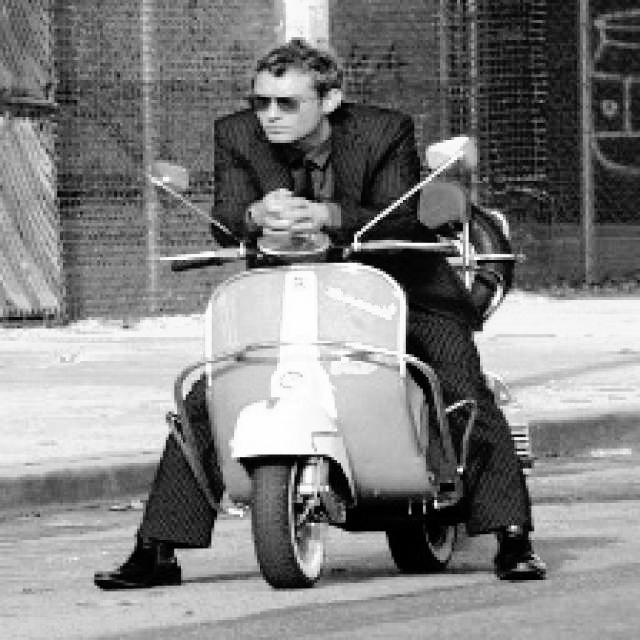Bike: (181, 236, 461, 570)
